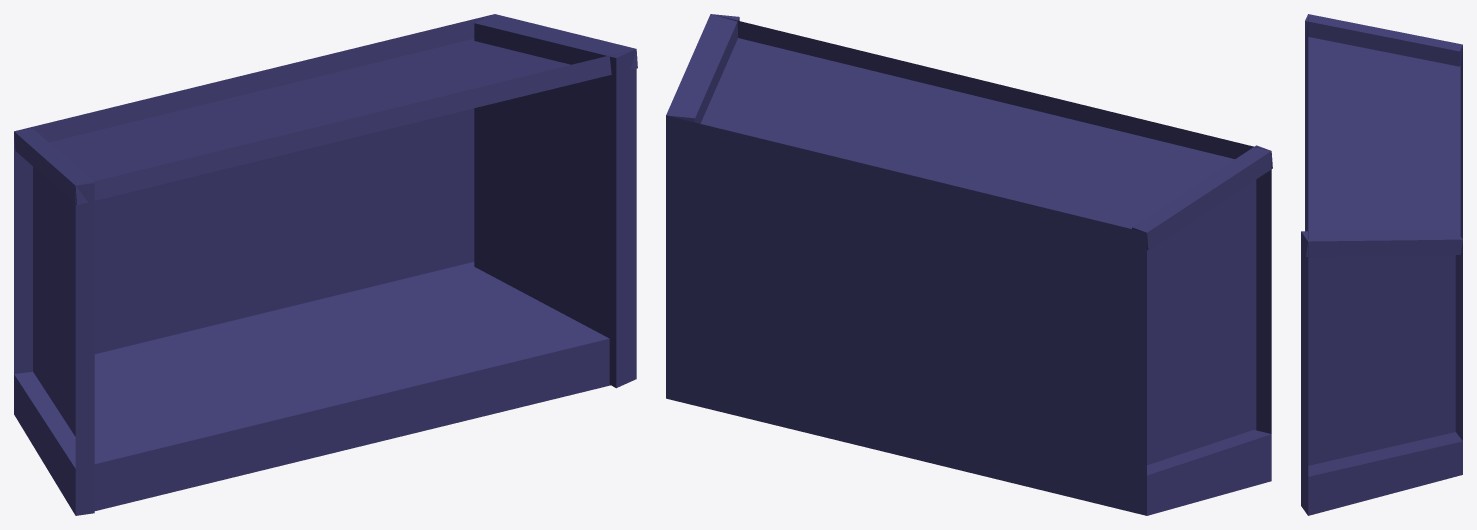
Rendered from music.gltf.
3 renders of one model, left to right at view 1: azimuth 30°, elevation 25°; view 2: azimuth 150°, elevation 25°; view 3: azimuth 270°, elevation 25°, orthographic. The views are drawn at different scales.
Visible parts, largest first — view 1: Cube; view 2: Cube; view 3: Cube.
Part boxes in pixels (x1,y1,x2,y2): Cube: [14, 14, 637, 515]; Cube: [666, 14, 1272, 515]; Cube: [1301, 14, 1462, 515].
Bounding box in the file's own units: 16.02 × 9.01 × 4.82.
